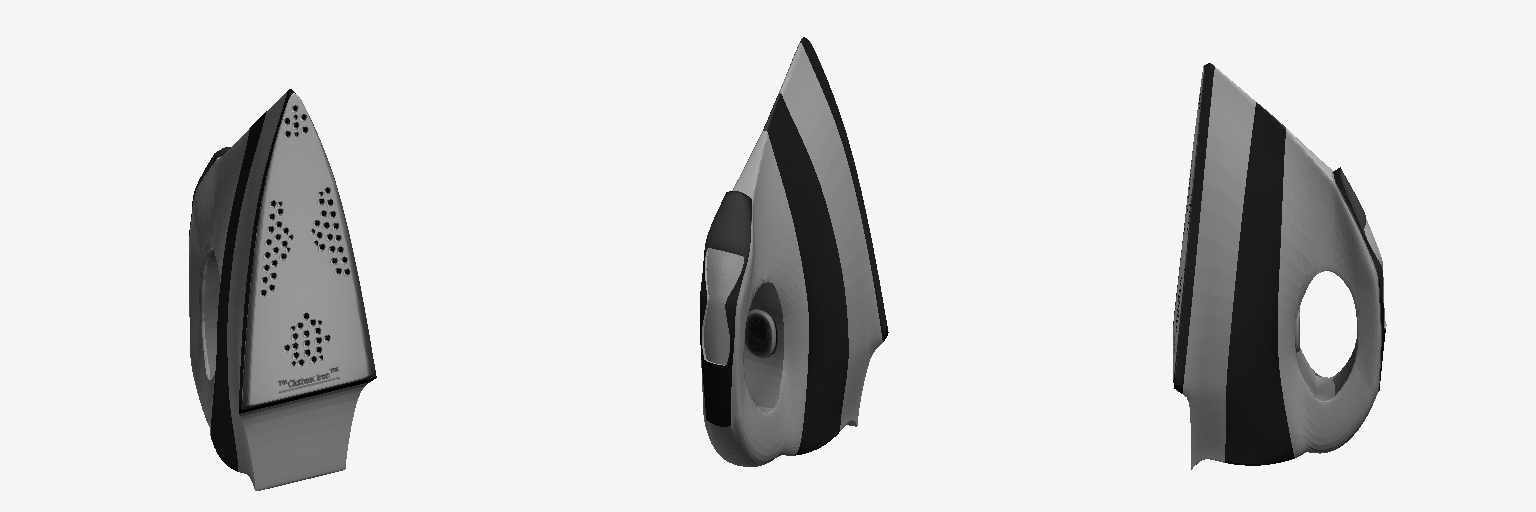
3 renders of one model, left to right at view 1: azimuth 30°, elevation 25°; view 2: azimuth 150°, elevation 25°; view 3: azimuth 270°, elevation 25°, orthographic.
Parts seen in each view (by area): view 1: 10274_Clothes_Iron_v1_iterations-2; view 2: 10274_Clothes_Iron_v1_iterations-2; view 3: 10274_Clothes_Iron_v1_iterations-2.
Boxes of the visible parts, x1,y1,x2,y2 form: 10274_Clothes_Iron_v1_iterations-2: [189, 89, 376, 490]; 10274_Clothes_Iron_v1_iterations-2: [700, 37, 888, 466]; 10274_Clothes_Iron_v1_iterations-2: [1173, 63, 1386, 469].
Size of the model in its own units: 0.5443 by 1.48 by 0.7423.
Materials: 1 (1 with a texture image).